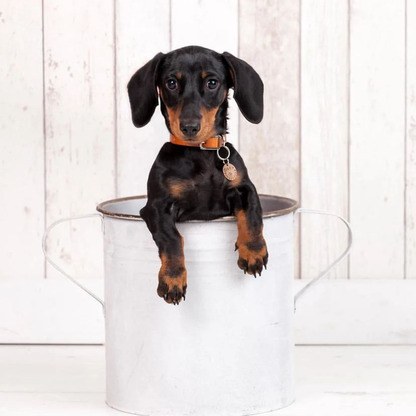dachshund: (104, 42, 289, 305)
